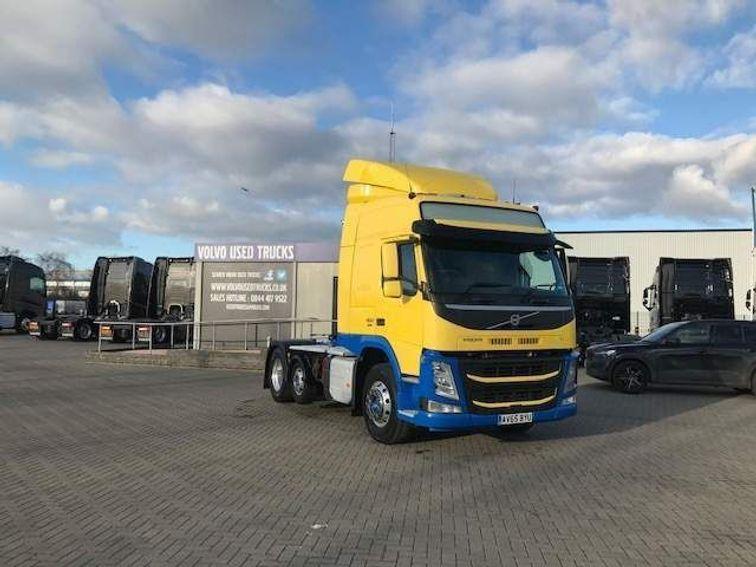Car: (584, 318, 755, 394)
Semi: (262, 158, 578, 444)
